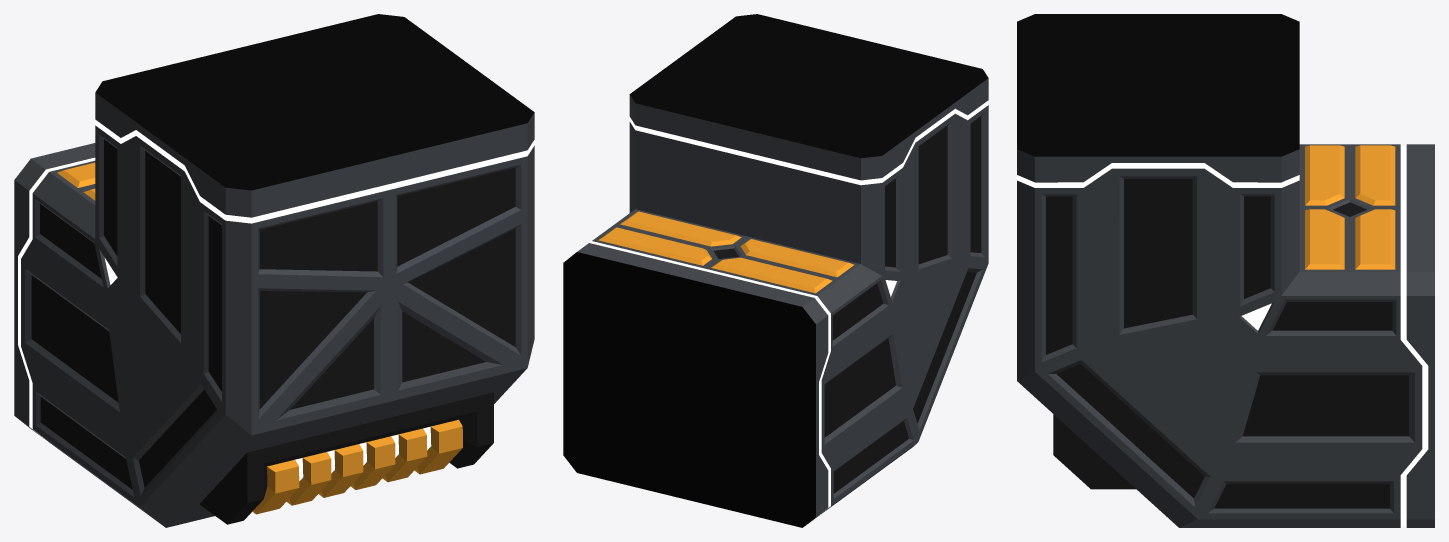
Rendered from SM_Corner_section_of_the_conveyor_elevator_2.glb.
The picture shows the model from 3 angles, left to right: view 1: azimuth 30°, elevation 25°; view 2: azimuth 150°, elevation 25°; view 3: azimuth 270°, elevation 25°; orthographic projection. The views are drawn at different scales.
Parts seen in each view (by area): view 1: SM_Corner_section_of_the_conveyor_elevator_2; view 2: SM_Corner_section_of_the_conveyor_elevator_2; view 3: SM_Corner_section_of_the_conveyor_elevator_2.
Boxes of the visible parts, x1,y1,x2,y2 form: SM_Corner_section_of_the_conveyor_elevator_2: (14,14,534,527); SM_Corner_section_of_the_conveyor_elevator_2: (563,14,988,527); SM_Corner_section_of_the_conveyor_elevator_2: (1017,14,1434,527).
Size of the model in its own units: 1.22 by 1.52 by 1.51.
2 materials, 1 textured.
